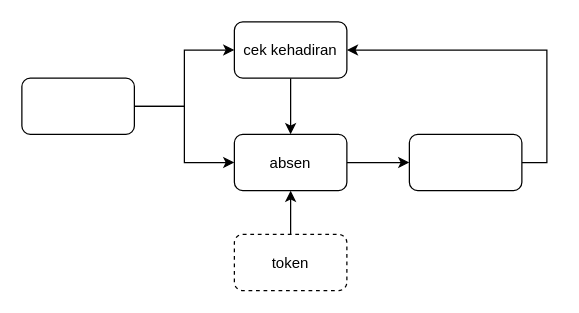
Image size: 579x313. Some labels were removed from this diagram. The centre of each missing label's shape, as x and y in pixels:
home: point 77,105
kirim: point 465,162
